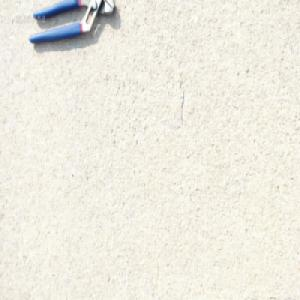Pliers: (28, 0, 117, 47)
